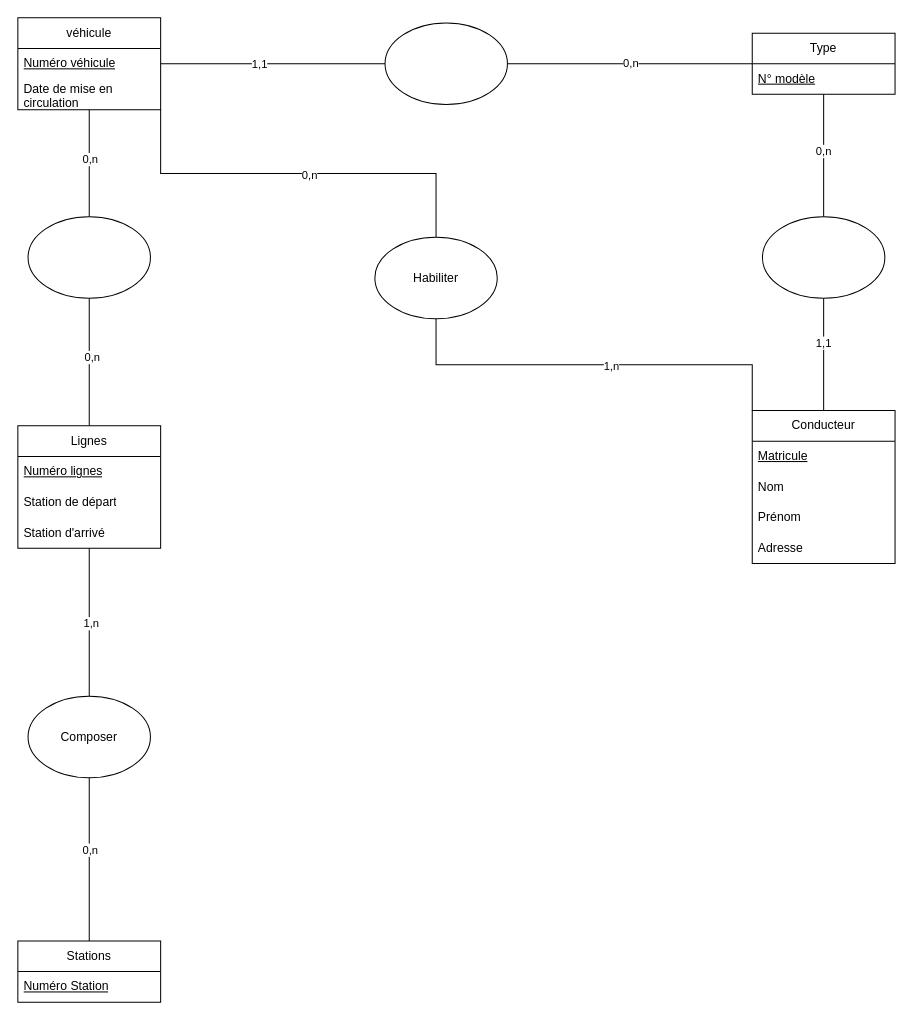
This 913x1020 diagram has some shape labels left out. Here are the shapes that lost their labels. From the top down, the centre of each, then its label:
[445,63]: Appartenir
[88,257]: Circuler
[823,257]: Agréer
